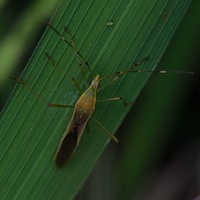insect: (100, 74, 197, 168), (157, 0, 199, 71)
